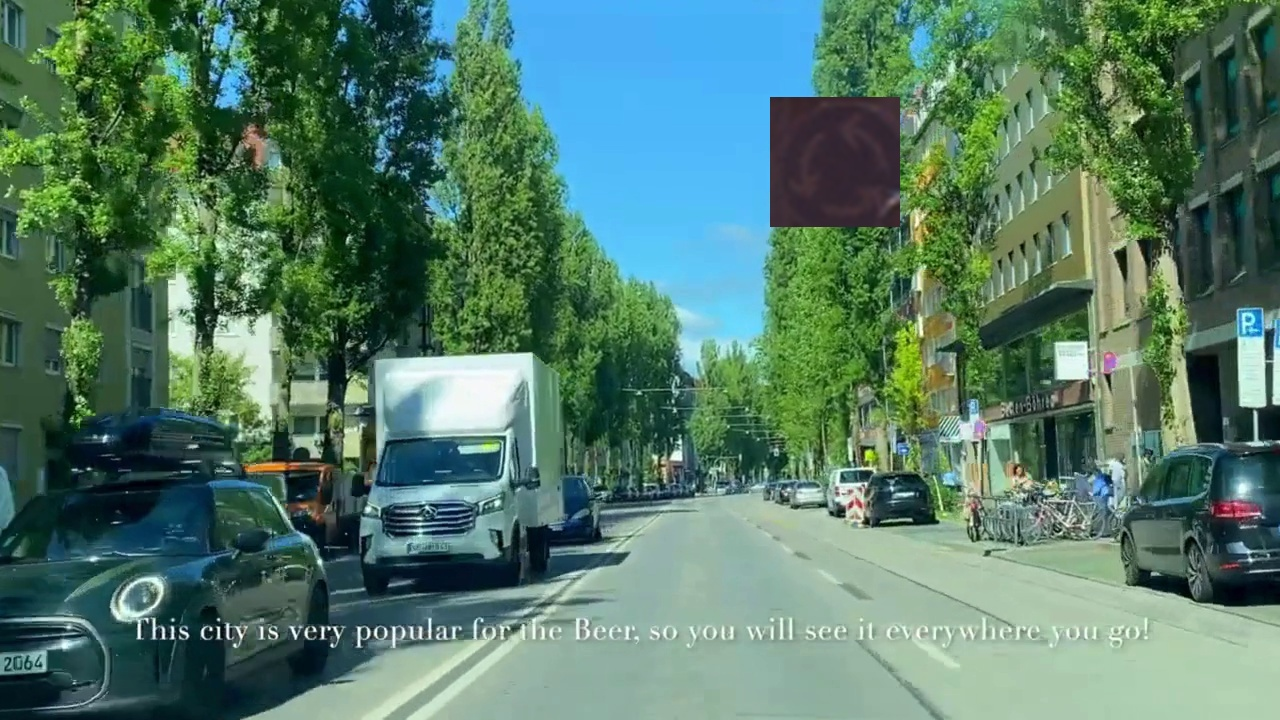Roundabout: (770, 97, 900, 227)
